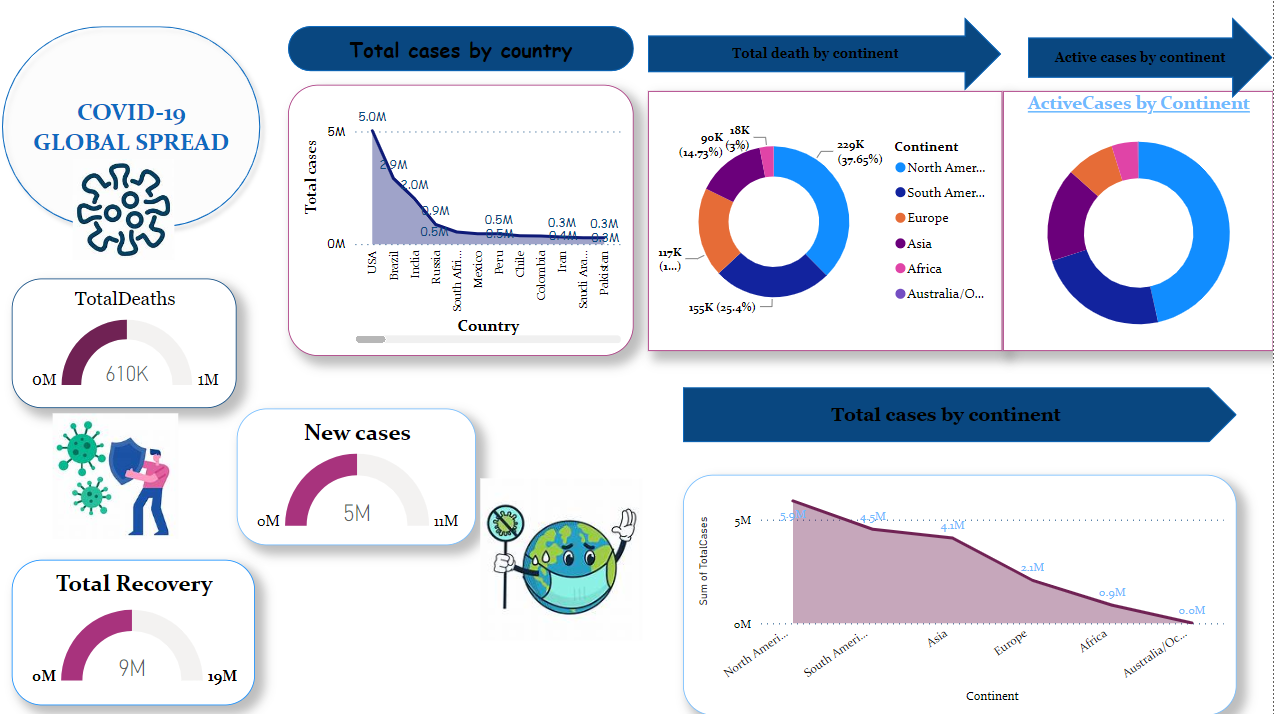

Layout of this report page (visuals, bound fields, positions):
{"tool":"powerbi","page":{"name":"Dashboard","canvas":[1280,720],"ordinal":0},"visuals":[{"type":"areaChart","title":"Total cases by country","fields":{"Category":["worldometer_data.Country/Region"],"Y":["Sum(worldometer_data.TotalCases)"]},"box":[294.6,89.2,345.9,271.4],"z":0},{"type":"donutChart","title":"TotalDeaths by Continent","fields":{"Category":["worldometer_data.Continent"],"Y":["Sum(worldometer_data.TotalDeaths)"]},"box":[655.2,95.3,354.5,260.4],"z":3000},{"type":"donutChart","title":" ActiveCases by Continent","fields":{"Category":["worldometer_data.Continent"],"Y":["Sum(worldometer_data.ActiveCases)"]},"box":[1009.7,95.3,270.2,260.4],"z":4000},{"type":"areaChart","title":"TotalCases by Continent","fields":{"Category":["worldometer_data.Continent"],"Y":["Sum(worldometer_data.TotalCases)"]},"box":[689.4,479.2,553.8,240.8],"z":5000},{"type":"gauge","title":"New cases","fields":{"Y":["Sum(worldometer_data.ActiveCases)"]},"box":[243.3,412,239.6,136.9],"z":6000},{"type":"gauge","title":"Total Recovery","fields":{"Y":["Sum(country_wise_latest.Recovered)"]},"box":[18.3,563.5,243.3,145.5],"z":7000},{"type":"shape","box":[0,20.8,276.3,218.8],"z":9000},{"type":"gauge","title":" TotalDeaths","fields":{"Y":["Sum(worldometer_data.TotalDeaths)"]},"box":[18.3,282.4,224.9,129.6],"z":11000},{"type":"shape","box":[294.6,30.6,345.9,45.2],"z":11002},{"type":"shape","box":[655.2,20.8,353.3,73.3],"z":11003},{"type":"shape","box":[1035.4,20.8,244.5,80.7],"z":11004},{"type":"image","box":[20.8,412,202.9,135.7],"z":11005},{"type":"shape","box":[689.4,391.2,553.8,55],"z":11006},{"type":"image","box":[482.9,530.5,172.4,189.5],"z":11007},{"type":"image","box":[74.6,157.7,111.2,112.5],"z":11008}]}

Visuals, with their boxes in screenshot pixels (x1, y1, x2, y2), scaled from the page's 1280x720 canvas onto the 1274x714 screenshot:
"Total cases by country" areaChart: box=[293, 88, 637, 358]
"TotalDeaths by Continent" donutChart: box=[652, 95, 1005, 353]
" ActiveCases by Continent" donutChart: box=[1005, 95, 1273, 353]
"TotalCases by Continent" areaChart: box=[686, 475, 1237, 713]
"New cases" gauge: box=[242, 409, 481, 544]
"Total Recovery" gauge: box=[18, 559, 260, 703]
shape: box=[0, 21, 275, 238]
" TotalDeaths" gauge: box=[18, 280, 242, 409]
shape: box=[293, 30, 637, 75]
shape: box=[652, 21, 1004, 93]
shape: box=[1031, 21, 1273, 101]
image: box=[21, 409, 223, 543]
shape: box=[686, 388, 1237, 442]
image: box=[481, 526, 652, 713]
image: box=[74, 156, 185, 268]
